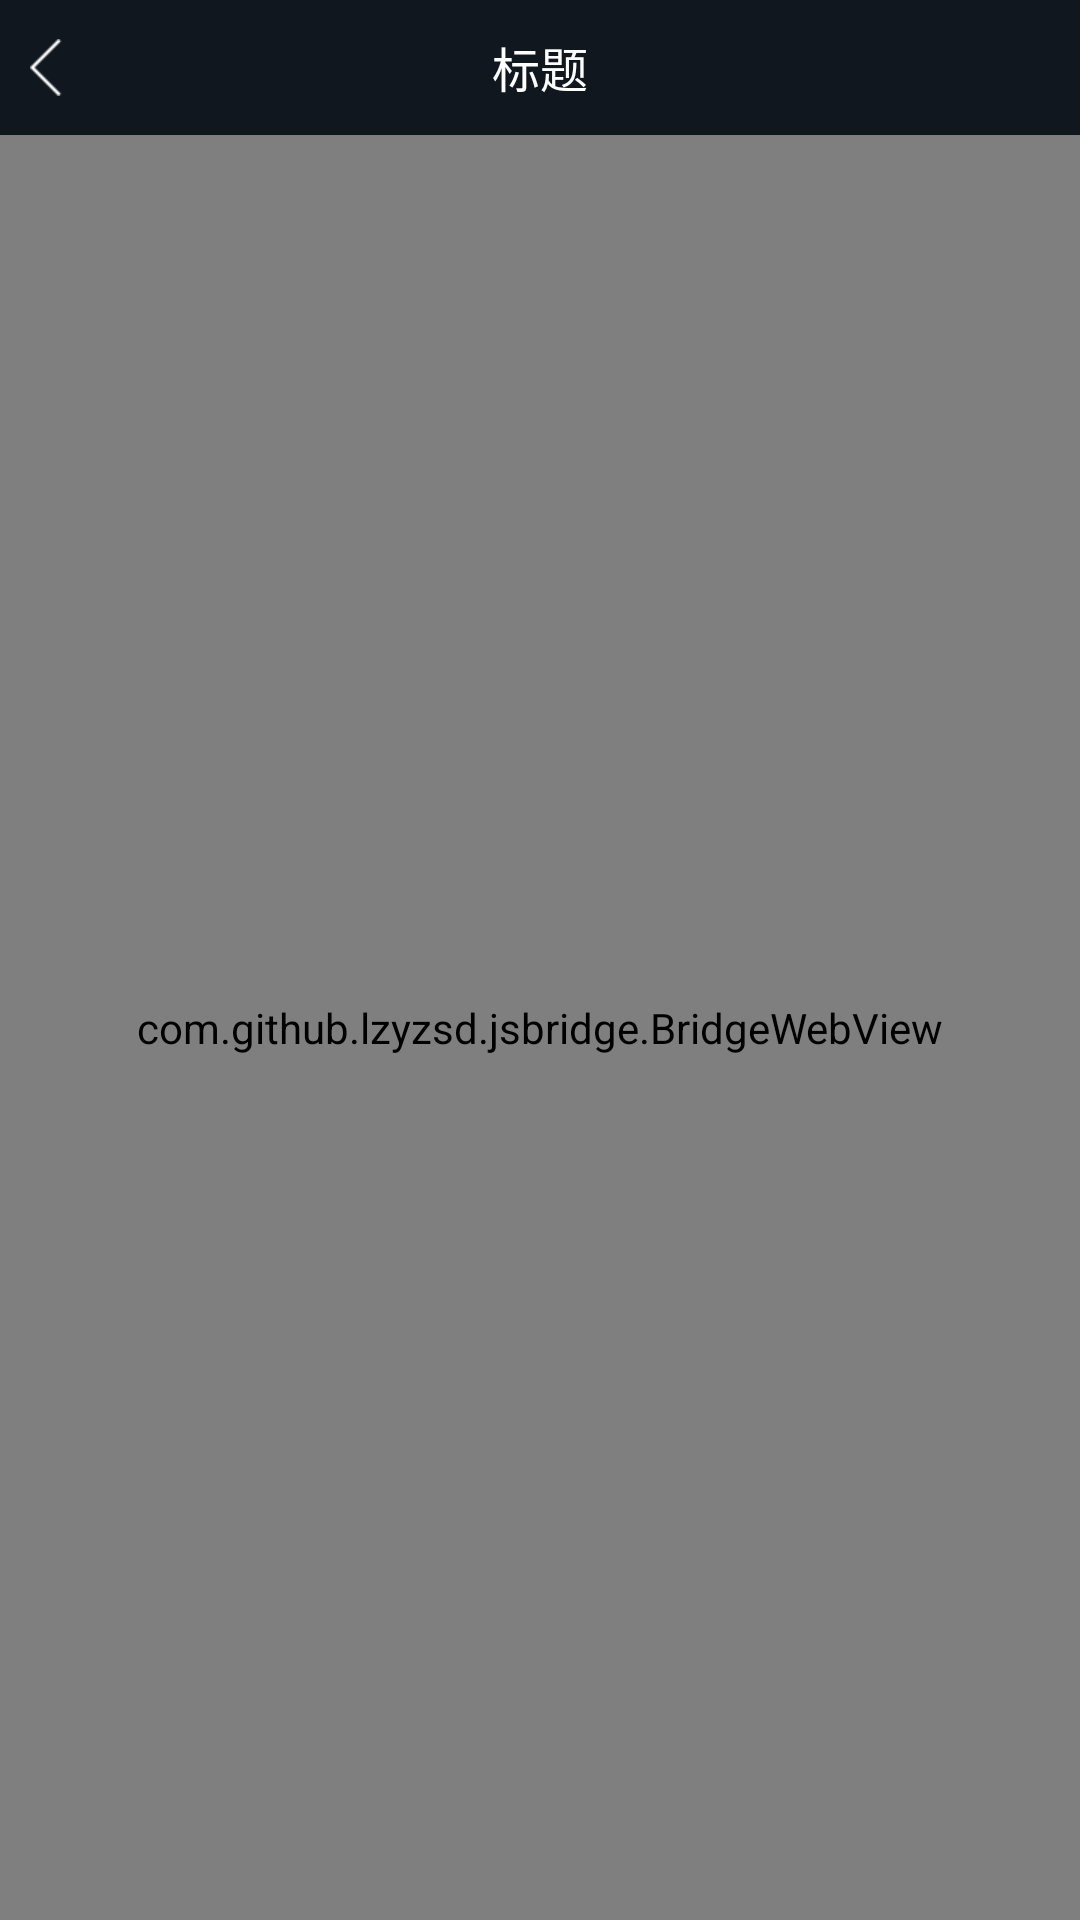

Where icons sit on this 1080×1920 app screen, as Rect(x1, y1, x2, y2):
arrow left: Rect(30, 39, 62, 96)
